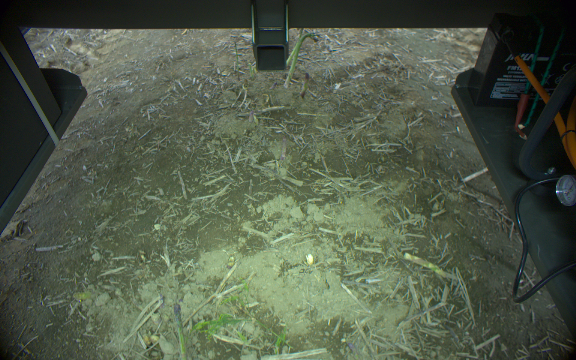aspa: (283, 32, 321, 89), (402, 251, 449, 282), (171, 301, 188, 354), (287, 31, 307, 68), (299, 72, 312, 98)
